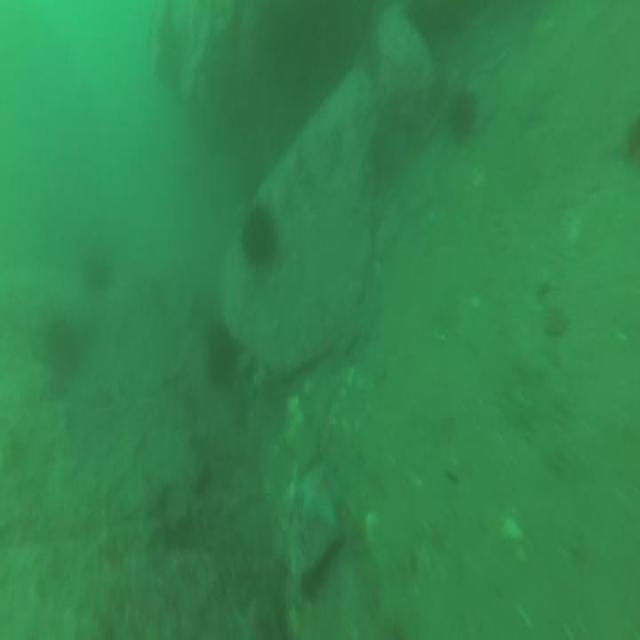echinus: (41, 312, 90, 394), (240, 204, 281, 273), (203, 319, 241, 392), (445, 88, 479, 148), (78, 252, 116, 300)
